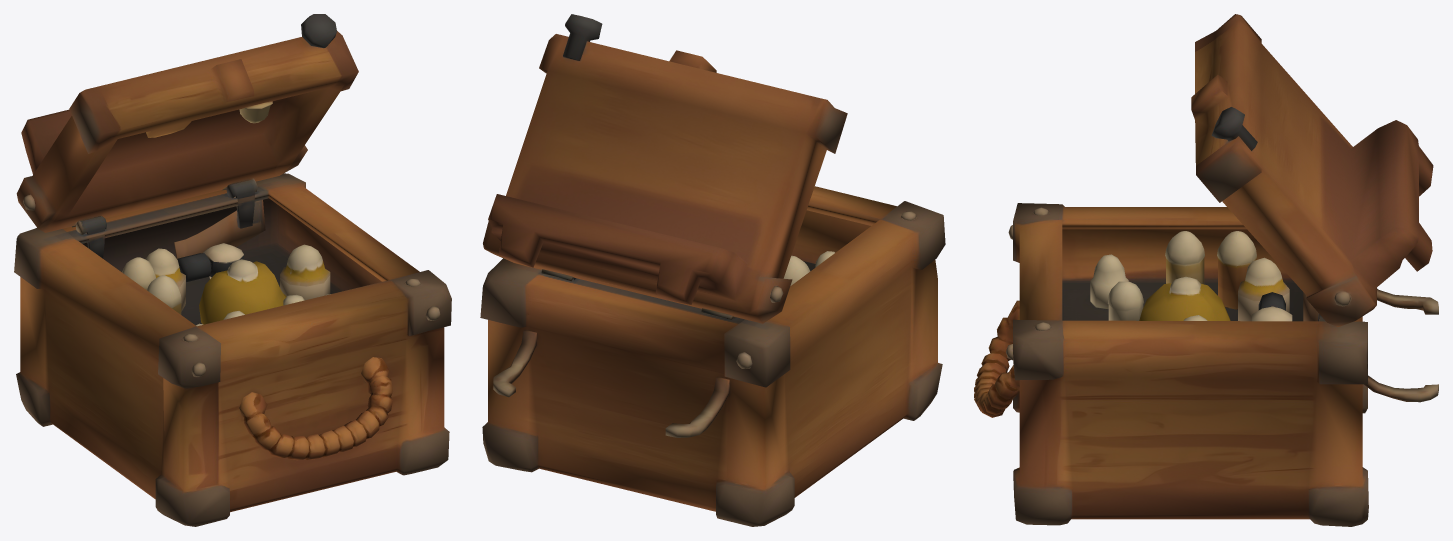
File: ammo_crate.glb
3 views of the same model, side by side, from view 1: azimuth 30°, elevation 25°; view 2: azimuth 150°, elevation 25°; view 3: azimuth 270°, elevation 25° (orthographic). The views are drawn at different scales.
Parts seen in each view (by area): view 1: tripo_node_c08e4711-5ede-45f7-b3db-ff63bda6c960; view 2: tripo_node_c08e4711-5ede-45f7-b3db-ff63bda6c960; view 3: tripo_node_c08e4711-5ede-45f7-b3db-ff63bda6c960.
Boxes of the visible parts, bbox=[...] form: tripo_node_c08e4711-5ede-45f7-b3db-ff63bda6c960: bbox=[14, 14, 451, 526]; tripo_node_c08e4711-5ede-45f7-b3db-ff63bda6c960: bbox=[480, 14, 945, 526]; tripo_node_c08e4711-5ede-45f7-b3db-ff63bda6c960: bbox=[974, 14, 1438, 526].
Bounding box in the file's own units: 0.709 × 0.9512 × 0.998.
1 material, 1 textured.
